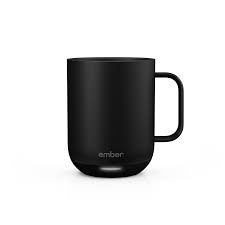cup: (61, 53, 187, 180)
